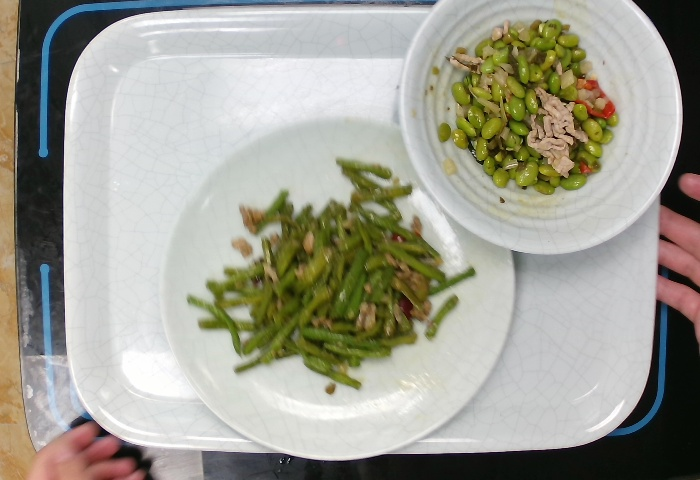JYsf-Da_Yuan_Pan: (159, 112, 520, 463)
JYsf-Xiao_Tang_Wan: (398, 1, 687, 258)
